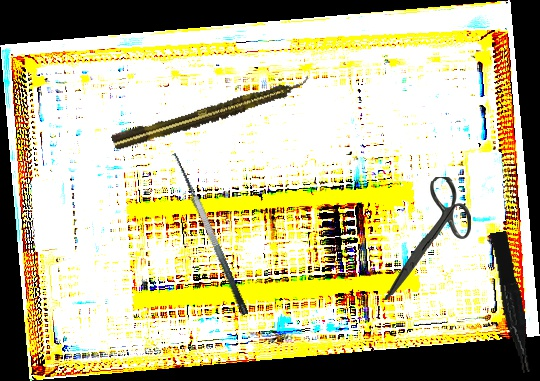Handpiece: (110, 73, 313, 153)
Iris Scissors: (384, 175, 472, 302)
Spatula Surgical: (161, 149, 251, 322)
Tissue Forceps: (490, 230, 533, 375)
